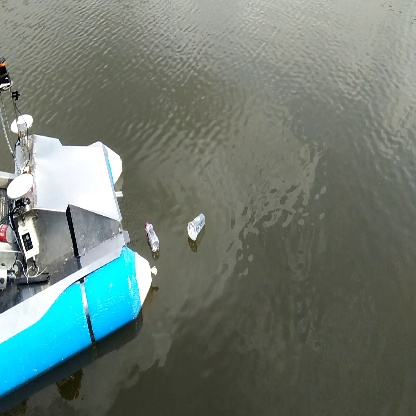bottle: (186, 213, 209, 244), (142, 220, 160, 254)
